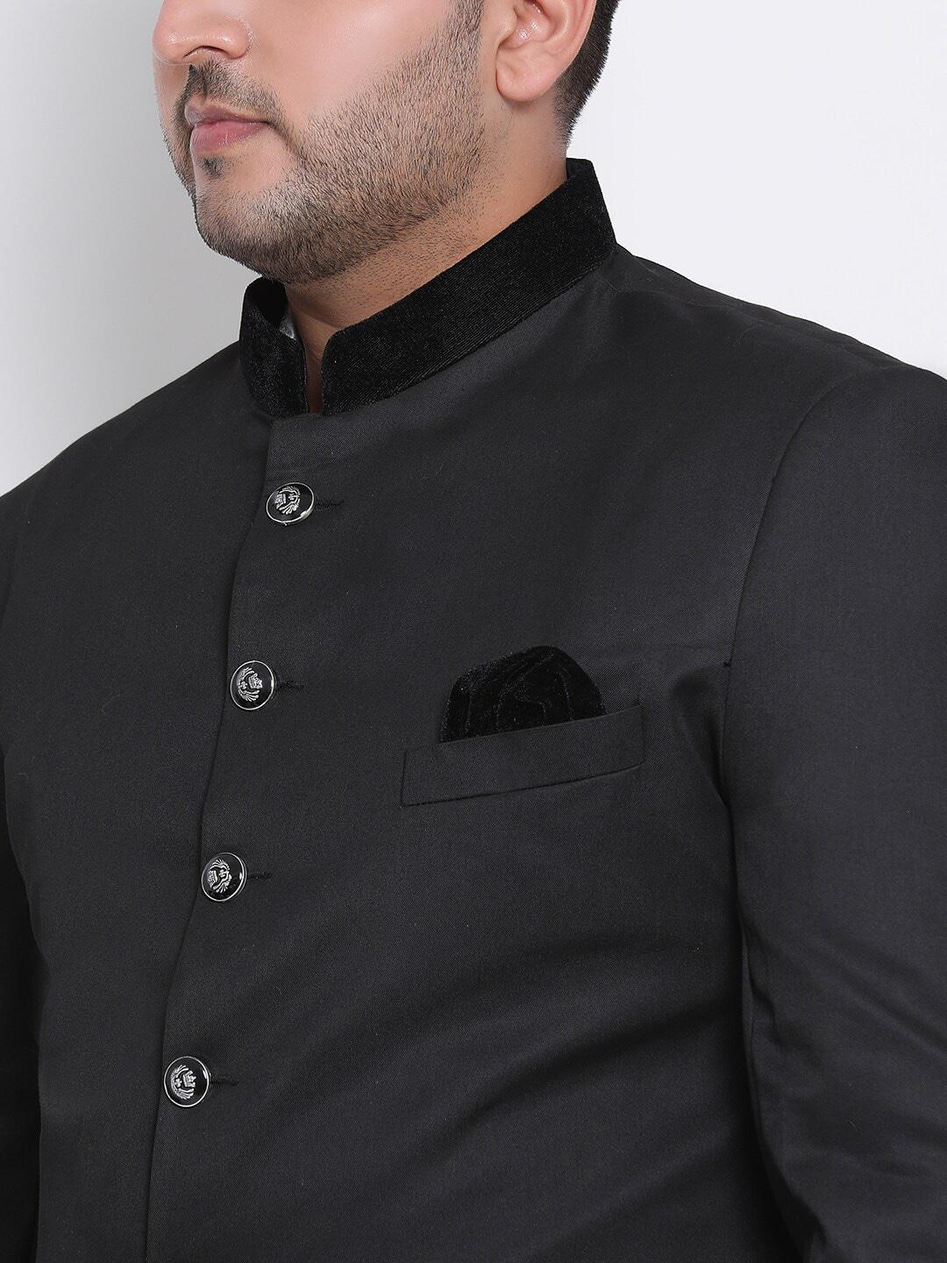Plain Sherwani: (3, 148, 943, 1253)
